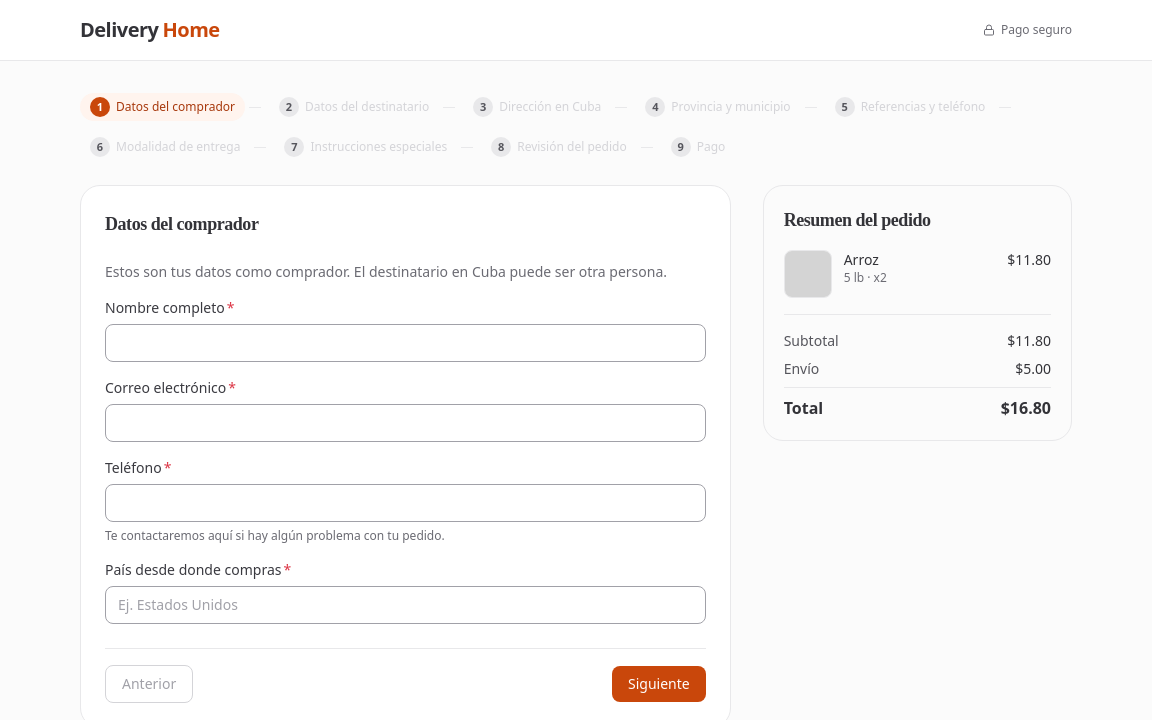
Scenario: CheckoutPage › no avanza de paso y muestra los errores de validación si faltan datos
Click the button "Siguiente": (659, 684) [612,666,706,702]
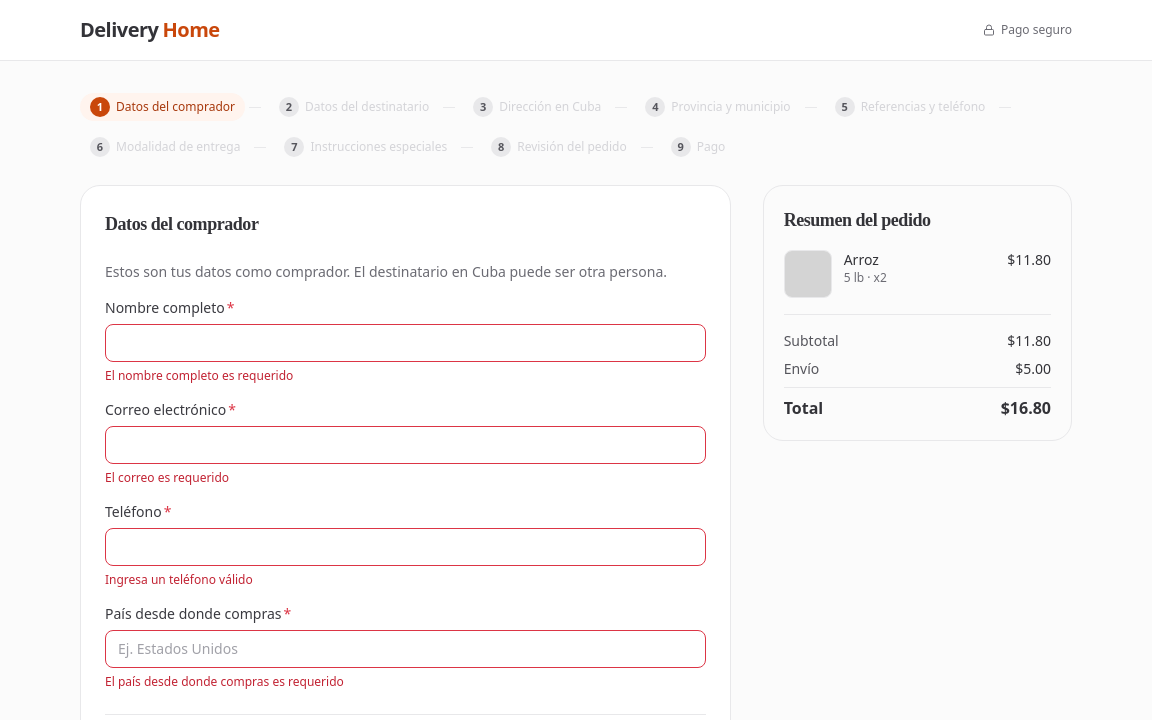
expect the heading "Datos del comprador" is shown: met, box [105,214,258,234]
expect the text "El nombre completo es requerido" is shown: met, box [105,367,293,384]
